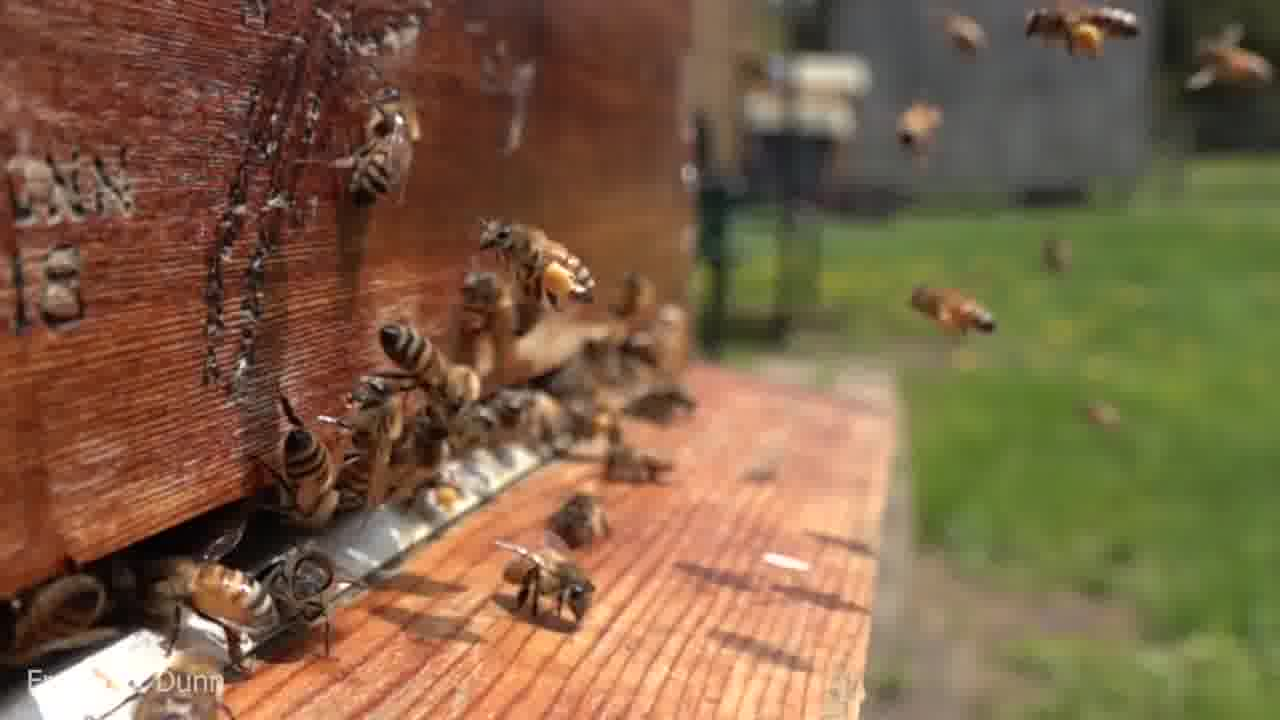pollen: (469, 214, 605, 305), (1025, 3, 1145, 63), (899, 279, 1001, 338)
